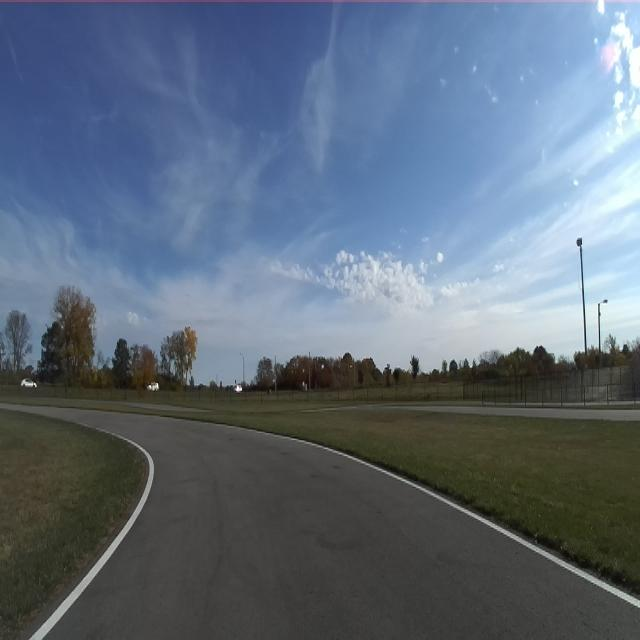white-line: (238, 428, 640, 610), (30, 430, 154, 639)
